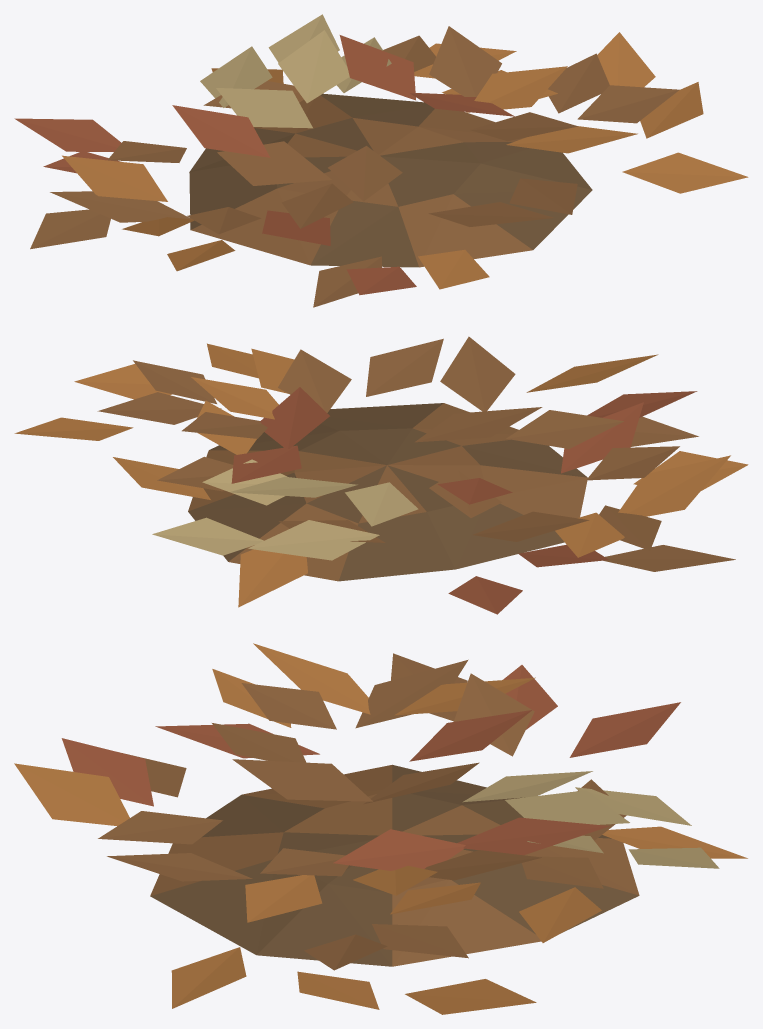
Rendered from GroundDetail_DryLeaves_B.fbx.
3 views of the same model, one above another, from view 1: azimuth 30°, elevation 25°; view 2: azimuth 150°, elevation 25°; view 3: azimuth 270°, elevation 25° (orthographic). The views are drawn at different scales.
Visible parts, largest first — view 1: GroundDetail_DryLeaves_B; view 2: GroundDetail_DryLeaves_B; view 3: GroundDetail_DryLeaves_B.
Boxes of the visible parts, box(x1,y1,x2,y2) form: GroundDetail_DryLeaves_B: box(14, 14, 748, 307); GroundDetail_DryLeaves_B: box(14, 336, 748, 614); GroundDetail_DryLeaves_B: box(14, 643, 747, 1014).
Size of the model in its own units: 0.6089 by 0.0675 by 0.5134.
Materials: 1 (1 with a texture image).
